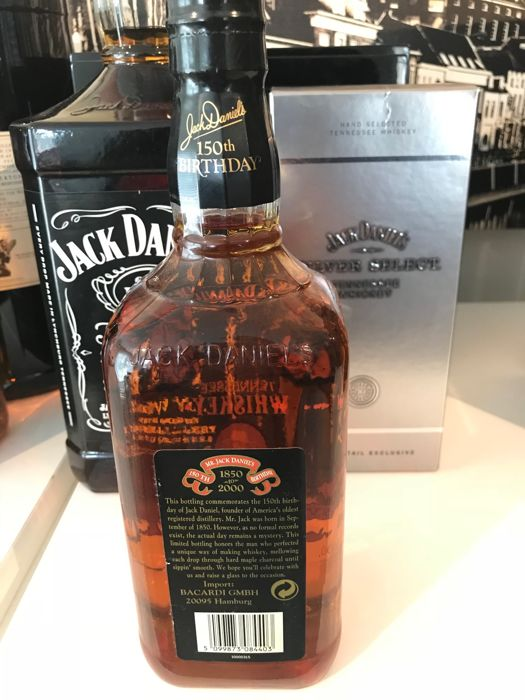Jack Daniel: (85, 3, 379, 700)
